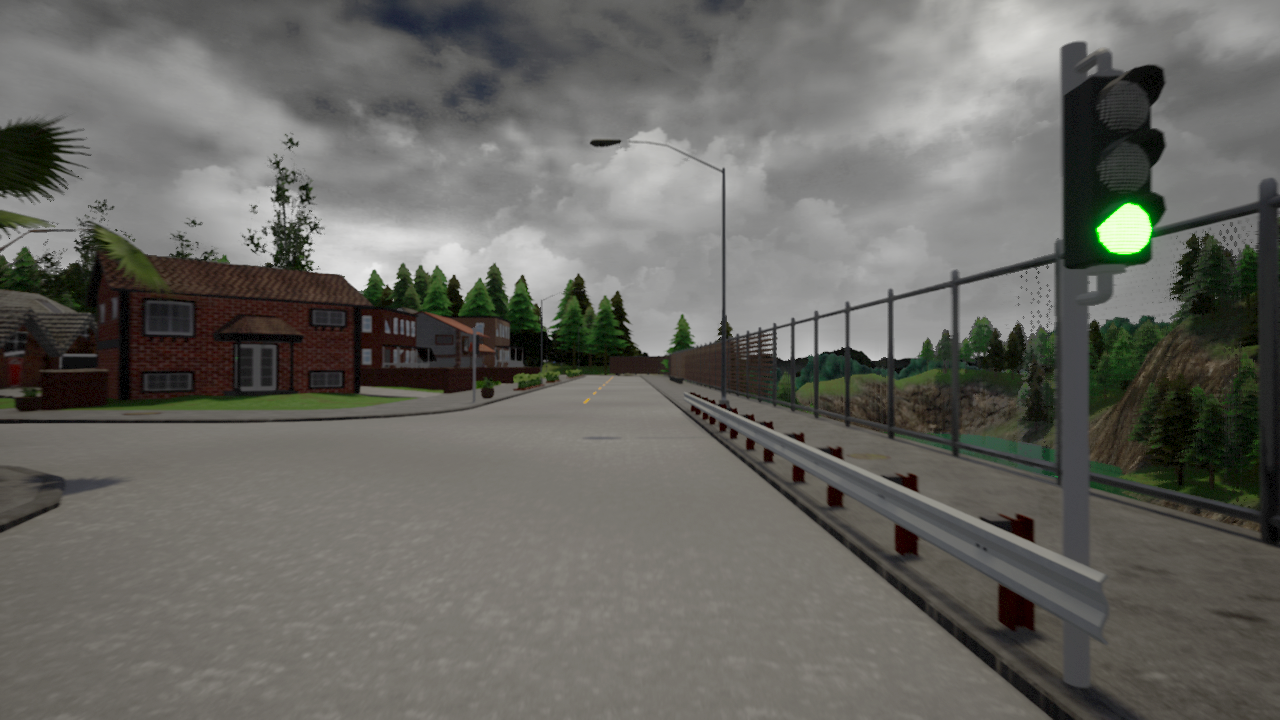green: (1060, 59, 1171, 269)
